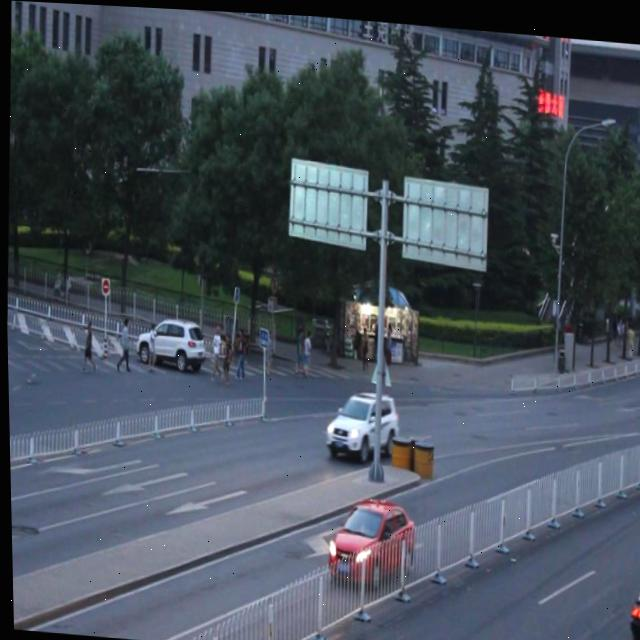car: (322, 490, 414, 583), (321, 384, 397, 458), (134, 310, 206, 370), (621, 555, 640, 640)
